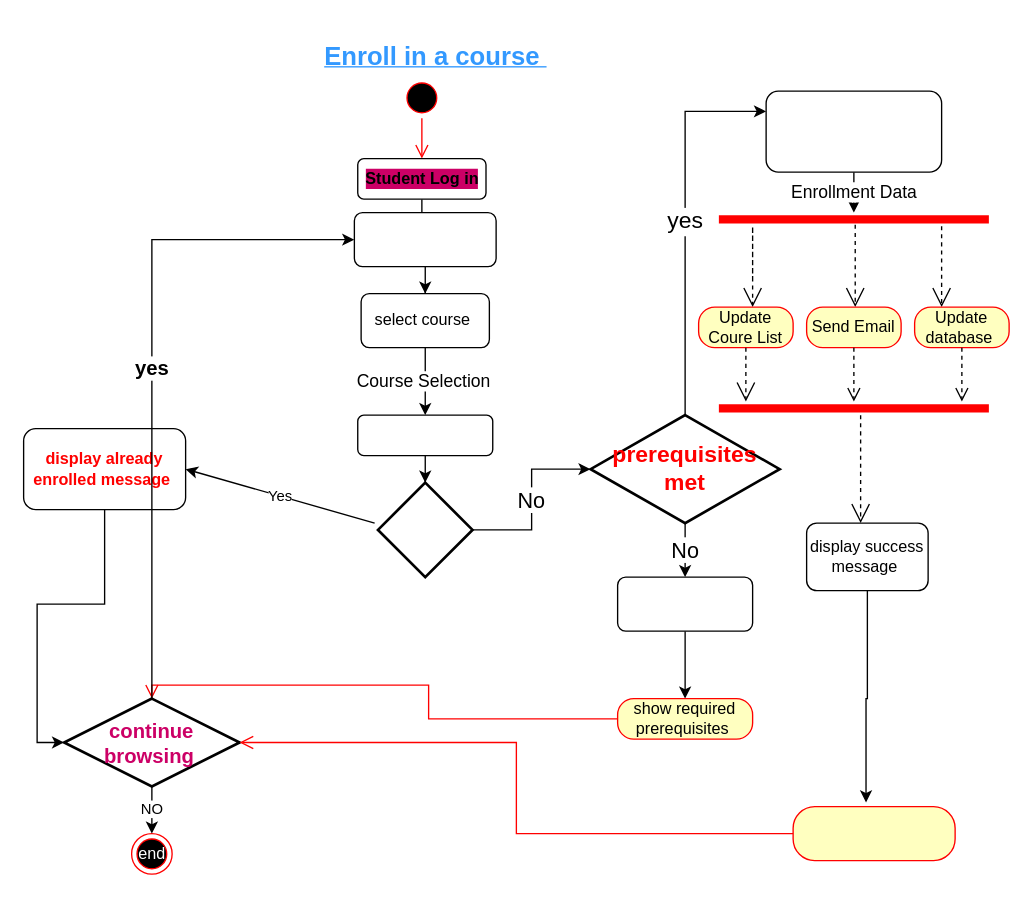
The diagram is 1033 pixels wide and 898 high, and some of its shapes have lost their labels. The shapes that lost their labels are listed below. From the top down, each one's centre as x and y in pixels, then its label:
At (853,131): "add enrollment details".
At (424,239): "browse courses".
At (424,435): "check enrollment status".
At (424,529): "already enrolled?".
At (684,603): "prerequisites error".
At (873,833): "Certificate available upon completion".
